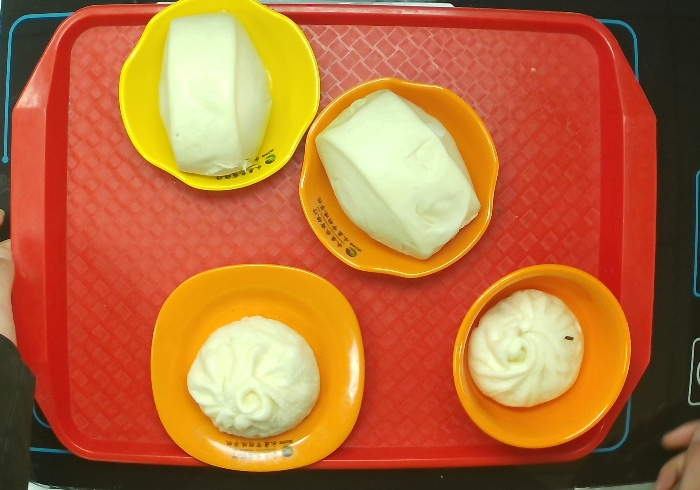YKMZ-Ju_Se_Fang_Die: (149, 264, 366, 473)
